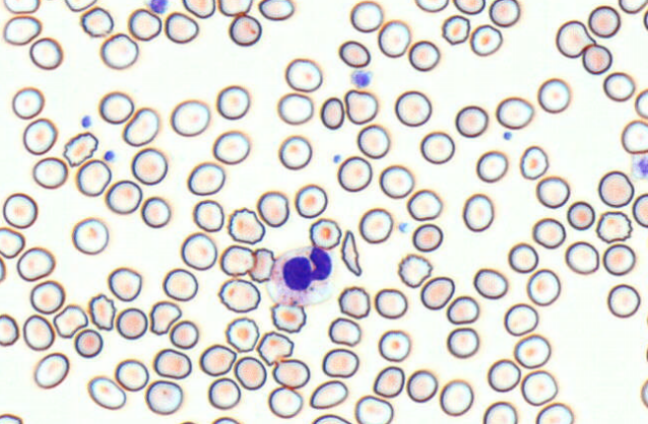GRAN: (268, 247, 338, 305)
PLT: (349, 70, 374, 89), (631, 156, 648, 179), (145, 0, 170, 15), (80, 114, 94, 129), (102, 149, 116, 163), (398, 222, 412, 234)
RBC: (555, 19, 594, 58), (217, 278, 260, 313), (170, 99, 210, 136), (122, 107, 159, 146), (227, 207, 265, 244), (180, 232, 217, 270), (71, 217, 109, 254), (520, 369, 558, 406), (131, 147, 168, 185), (100, 32, 138, 69), (144, 379, 183, 415), (75, 158, 111, 196), (394, 90, 432, 126), (16, 246, 55, 281), (87, 375, 126, 410), (33, 352, 69, 389), (598, 170, 634, 207), (284, 57, 322, 92), (22, 117, 57, 155), (513, 333, 551, 368), (62, 131, 98, 167), (105, 179, 142, 214), (337, 155, 372, 192), (187, 161, 225, 195), (212, 130, 250, 164), (526, 268, 560, 306), (495, 96, 534, 129), (358, 207, 393, 243), (29, 279, 65, 314), (2, 192, 37, 228), (439, 379, 473, 416), (377, 19, 410, 57), (462, 193, 494, 232), (107, 266, 142, 301), (225, 316, 259, 352), (278, 134, 312, 170), (537, 77, 571, 113), (98, 90, 134, 124), (216, 84, 250, 120), (256, 190, 289, 227), (152, 348, 191, 379), (397, 253, 432, 287), (379, 164, 414, 198), (420, 276, 455, 310), (503, 302, 538, 336), (356, 123, 390, 158), (344, 89, 378, 124), (162, 268, 198, 301), (406, 188, 442, 221), (32, 156, 68, 189), (199, 344, 236, 376), (22, 314, 54, 351), (272, 358, 310, 389), (309, 379, 348, 409), (2, 15, 41, 45), (487, 358, 521, 392), (29, 36, 63, 70), (565, 240, 599, 274), (127, 7, 161, 41), (114, 358, 149, 391), (294, 183, 327, 218), (535, 175, 570, 208), (607, 283, 640, 318), (267, 386, 303, 418), (277, 92, 313, 124), (321, 348, 359, 378), (354, 394, 393, 423), (233, 356, 266, 390), (207, 377, 241, 410), (420, 131, 454, 164), (219, 244, 254, 276), (473, 267, 508, 299), (270, 302, 306, 333), (378, 329, 411, 362), (455, 104, 488, 137), (337, 285, 370, 318), (11, 86, 44, 119), (532, 217, 566, 249), (164, 11, 198, 43), (374, 287, 407, 319), (309, 217, 341, 250), (372, 365, 405, 397), (115, 307, 148, 339), (406, 369, 438, 402), (192, 199, 224, 232), (228, 14, 261, 46), (469, 24, 502, 56), (475, 150, 508, 182), (588, 5, 620, 38), (602, 243, 635, 275), (350, 0, 383, 32), (80, 6, 114, 37), (408, 39, 440, 71), (446, 327, 479, 358), (519, 145, 548, 180), (140, 196, 171, 228), (327, 317, 361, 346), (507, 242, 538, 273), (603, 71, 635, 101), (446, 295, 479, 324), (582, 43, 612, 74), (621, 119, 647, 154), (73, 328, 103, 358), (412, 223, 443, 252), (169, 319, 198, 349), (441, 14, 470, 44), (566, 200, 595, 230), (488, 0, 520, 27), (338, 40, 370, 67), (319, 96, 344, 129), (535, 402, 574, 423), (0, 226, 25, 258), (482, 401, 517, 423), (258, 0, 294, 20), (0, 313, 19, 346), (182, 0, 215, 18), (217, 0, 252, 16), (3, 0, 40, 14), (632, 193, 647, 227), (453, 0, 485, 14), (414, 0, 448, 12), (634, 88, 647, 119), (311, 413, 351, 423), (64, 0, 97, 12), (618, 0, 647, 13), (640, 378, 648, 408), (0, 413, 22, 423), (211, 416, 240, 423), (0, 255, 6, 282), (643, 8, 648, 31), (178, 420, 197, 424), (645, 342, 648, 363)
Schistocyte: (594, 208, 639, 246), (51, 305, 89, 340), (340, 228, 365, 278), (149, 302, 182, 337), (88, 294, 118, 330), (251, 245, 277, 284)
